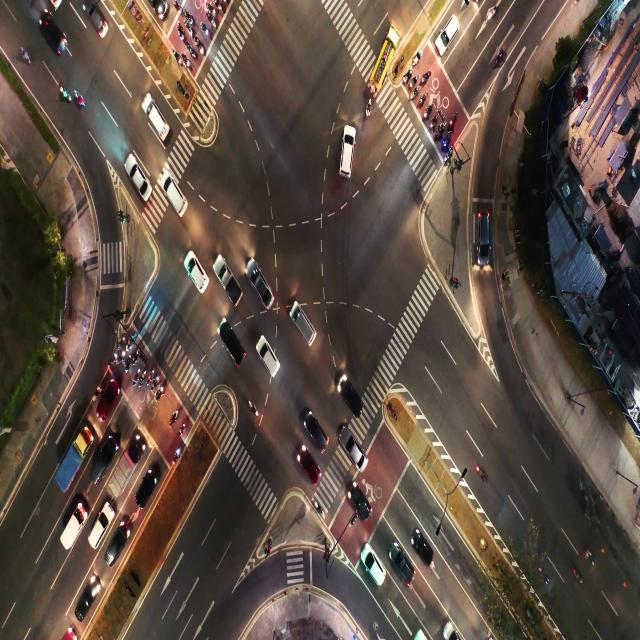bus: (380, 50, 388, 72)
car: (481, 215, 493, 261), (343, 142, 356, 176), (146, 105, 164, 129), (80, 585, 94, 612), (130, 162, 144, 187), (305, 457, 318, 481), (296, 313, 308, 339), (417, 539, 431, 561), (227, 335, 240, 355), (400, 555, 411, 578), (94, 450, 104, 475), (194, 270, 206, 290), (171, 189, 181, 212), (343, 395, 358, 410), (257, 280, 268, 300), (354, 499, 366, 516), (312, 426, 324, 442), (49, 27, 59, 46), (266, 354, 275, 374), (142, 480, 152, 498), (95, 516, 104, 536), (113, 537, 121, 557), (445, 26, 456, 40), (349, 447, 359, 462), (94, 18, 106, 30), (372, 564, 381, 579), (104, 392, 110, 411)
motorcycle: (538, 565, 550, 584), (247, 398, 257, 420), (474, 463, 485, 482), (572, 571, 582, 585), (587, 551, 595, 568), (496, 50, 504, 64), (22, 46, 28, 63), (602, 550, 610, 562), (75, 94, 84, 103), (315, 502, 323, 512), (63, 89, 71, 98), (488, 7, 494, 19), (211, 16, 217, 28), (419, 95, 425, 106), (425, 70, 430, 82), (180, 422, 186, 432), (153, 375, 158, 386), (438, 126, 443, 136), (425, 108, 430, 118), (174, 448, 179, 458), (218, 2, 224, 10), (444, 136, 449, 145), (413, 77, 418, 86), (175, 54, 180, 63), (176, 4, 181, 13), (416, 51, 420, 62), (451, 112, 454, 126), (209, 8, 216, 14), (447, 151, 451, 161), (432, 116, 436, 126), (149, 372, 153, 382), (142, 372, 147, 380), (134, 370, 138, 380), (198, 42, 202, 52), (189, 29, 193, 39), (180, 31, 184, 41), (367, 102, 371, 111), (407, 69, 411, 78), (172, 413, 176, 422), (128, 340, 132, 349), (206, 30, 210, 39), (113, 353, 117, 361), (188, 62, 192, 70), (128, 357, 131, 367), (158, 390, 162, 397), (191, 49, 195, 56), (414, 88, 417, 97), (136, 352, 139, 360), (122, 336, 125, 344), (96, 389, 99, 397), (122, 354, 125, 360), (190, 16, 192, 25)
truck: (121, 453, 131, 482), (225, 276, 239, 296), (66, 450, 77, 475), (69, 522, 75, 538)
